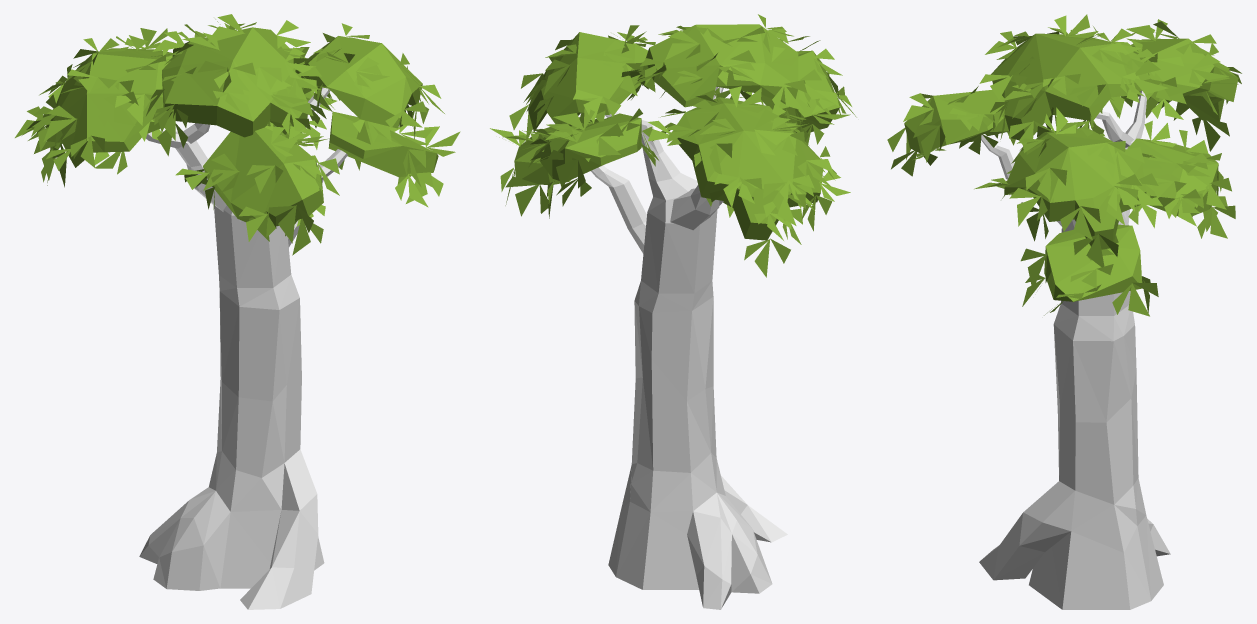
The model's file is SM_Tree_Baobab_Young_A.fbx.
The picture shows the model from 3 angles, left to right: view 1: azimuth 30°, elevation 25°; view 2: azimuth 150°, elevation 25°; view 3: azimuth 270°, elevation 25°; orthographic projection. The views are drawn at different scales.
Visible parts, largest first — view 1: tree-baobab-young-a; view 2: tree-baobab-young-a; view 3: tree-baobab-young-a.
Boxes of the visible parts, bbox=[...] form: tree-baobab-young-a: bbox=[15, 14, 460, 609]; tree-baobab-young-a: bbox=[490, 14, 856, 609]; tree-baobab-young-a: bbox=[887, 14, 1241, 609].
Bounding box in the file's own units: 3.41 × 4.68 × 2.79.
